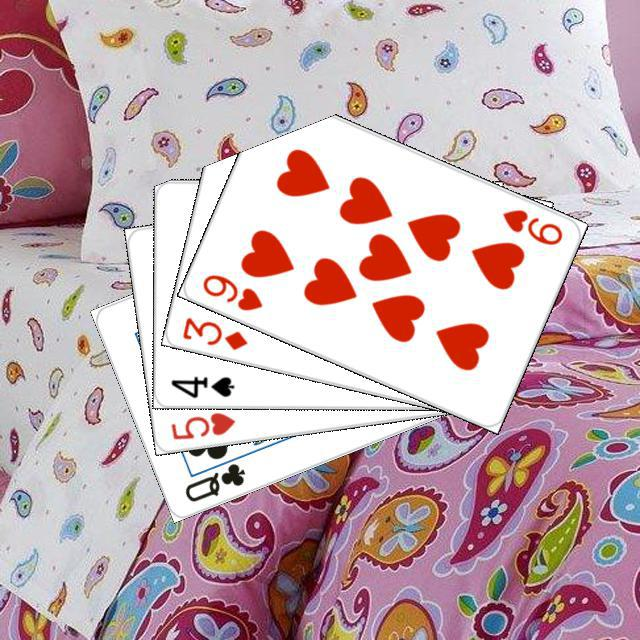3d: (177, 311, 249, 352)
4s: (166, 371, 236, 400)
5h: (166, 407, 237, 442)
9h: (197, 269, 265, 313), (497, 204, 565, 247)
Qc: (179, 449, 248, 504)
